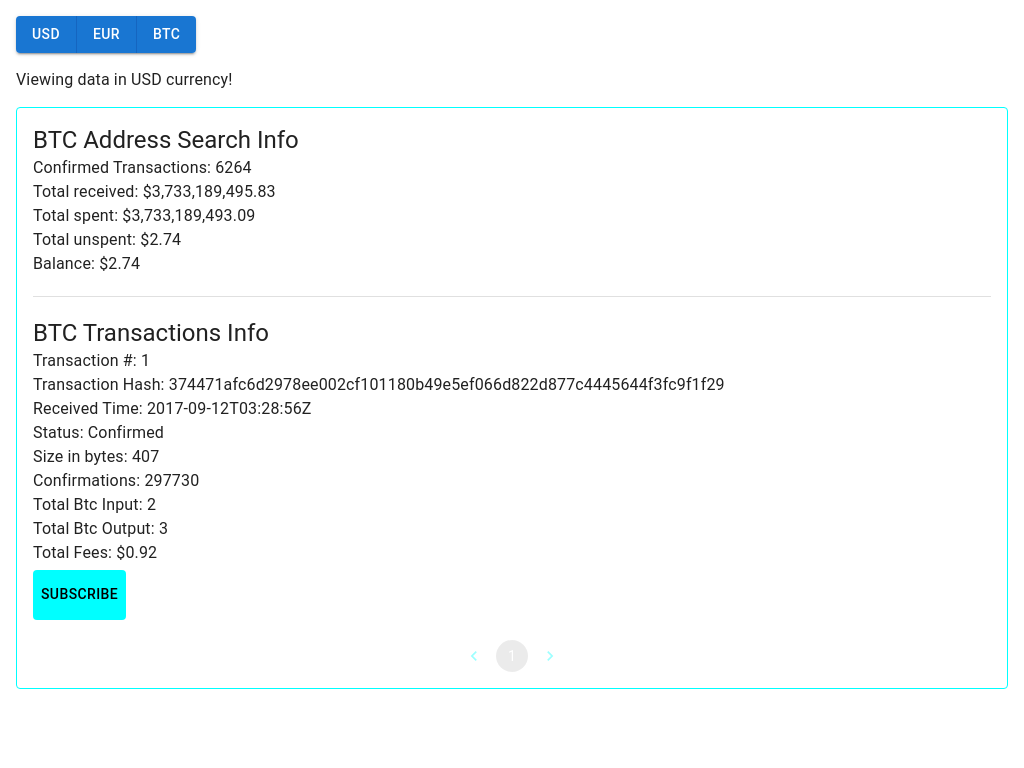
Scenario: BtcAddressInfo › should click the BTC Button
This screenshot has width=1024, height=768.
Step 1. Click the button "BTC" → (167, 34), box [137,16,196,52]
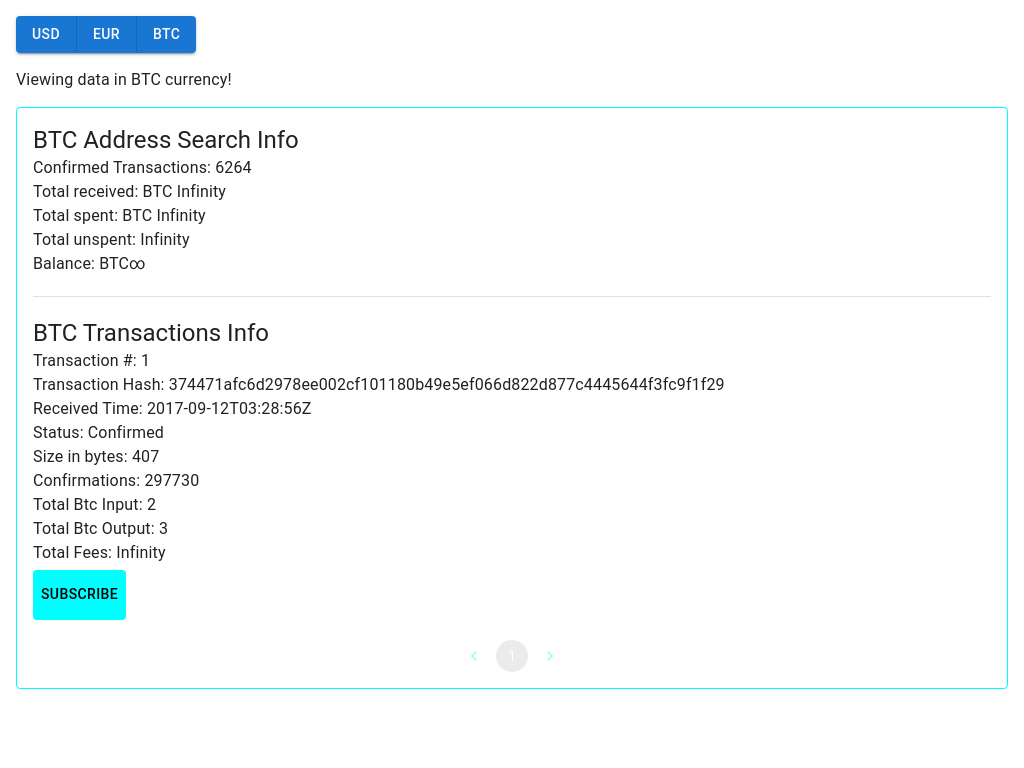
Result: the text "Viewing data in BTC currency!" is shown at [16,70,232,88]
